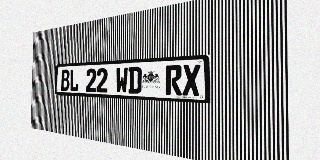2: (96, 68, 108, 93), (86, 68, 96, 92)
B: (61, 69, 70, 91)
D: (128, 66, 142, 94)
L: (69, 69, 79, 92)
R: (165, 65, 182, 95)
W: (115, 67, 128, 93)
X: (182, 64, 200, 96)
